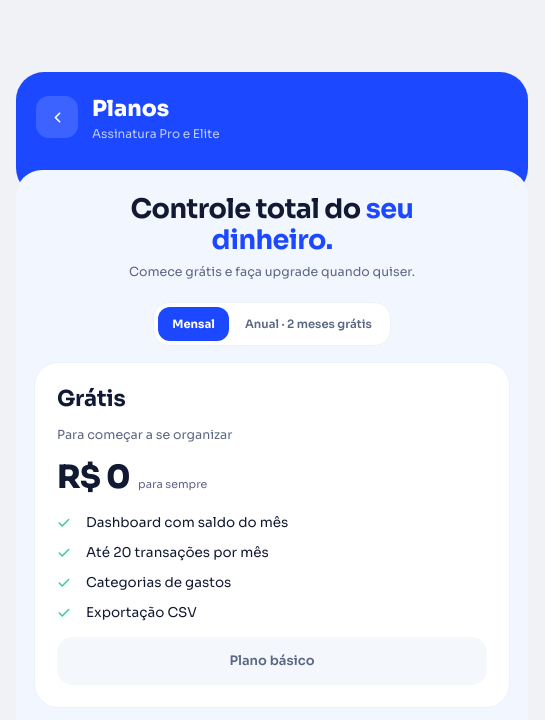
Test: Planos — renderização › preços: Pro R$ 9,90 e Elite R$ 34,90 por mês; no Anual, R$ 8,25 e R$ 27,90 com o total cobrado por ano
Click the button "Anual · 2 meses grátis": (308, 324) [231,307,386,341]
(page scrolled)
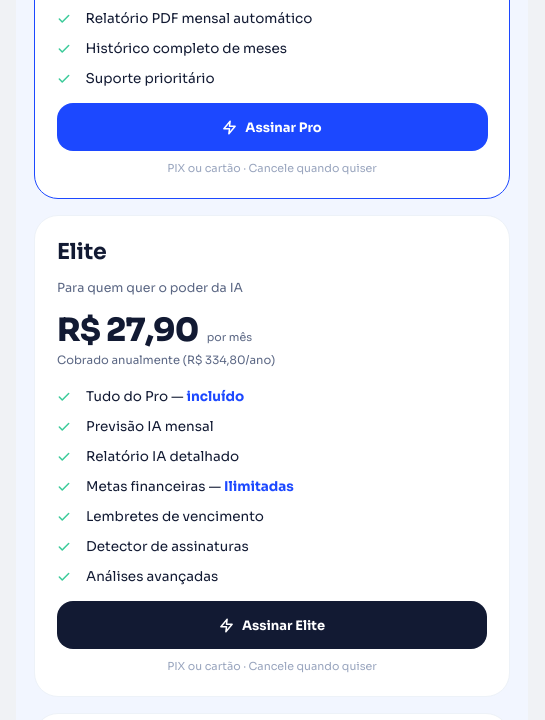
Now the text "R$ 27,90" is shown, box [57,314,199,346]
Now the text "Cobrado anualmente (R$ 334,80/ano)" is shown, box [57,353,275,367]
